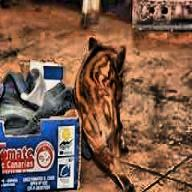boar: (72, 36, 136, 191)
